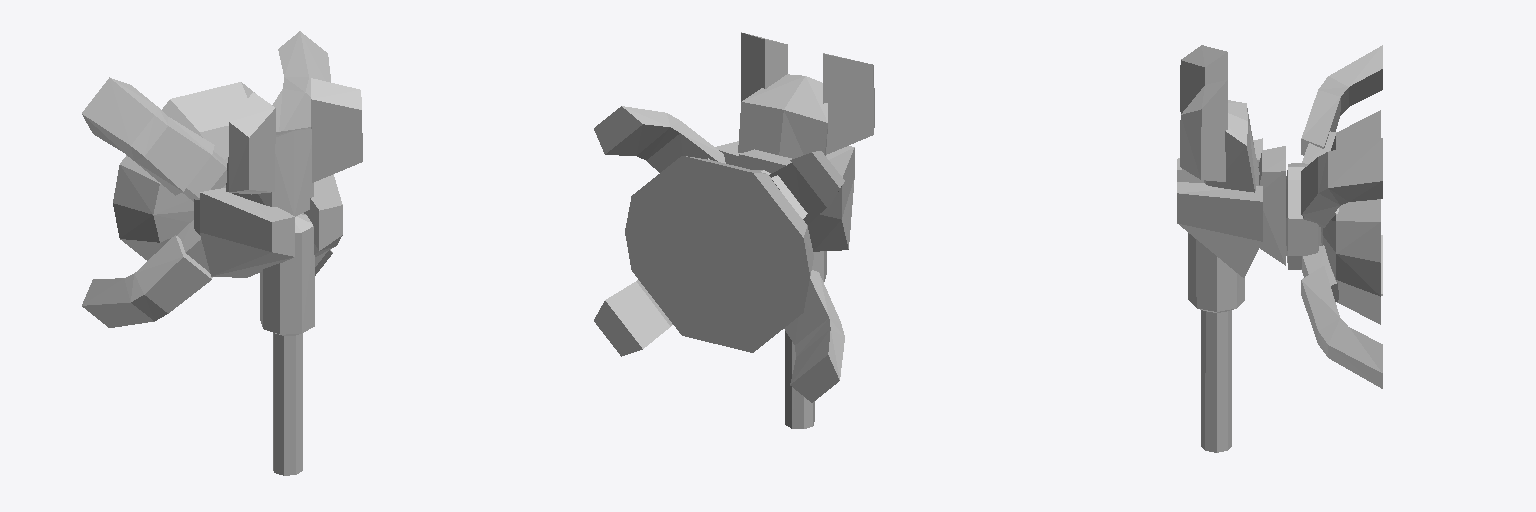
Rendered from turret-03.obj.
3 renders of one model, left to right at view 1: azimuth 30°, elevation 25°; view 2: azimuth 150°, elevation 25°; view 3: azimuth 270°, elevation 25°, orthographic.
Visible parts, largest first — view 1: turret_03; view 2: turret_03; view 3: turret_03.
Part boxes in pixels (x1,y1,x2,y2): turret_03: (82,31,362,475); turret_03: (594,32,874,428); turret_03: (1177,45,1382,452).
Size of the model in its own units: 4.68 by 6.91 by 3.38.